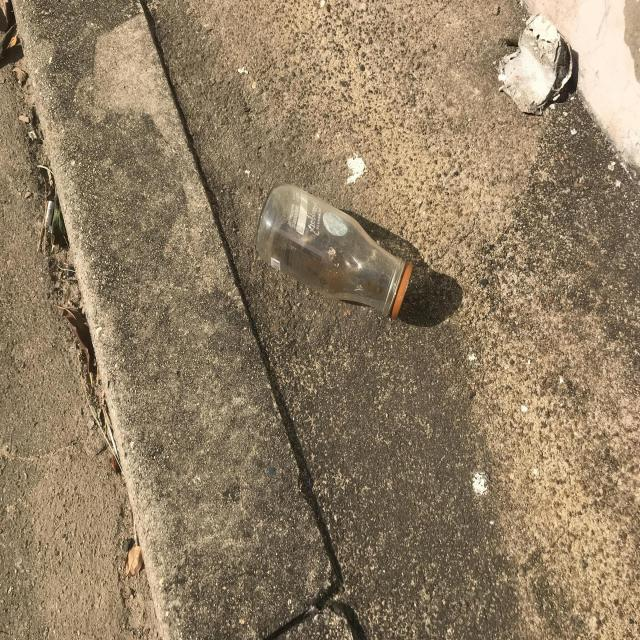glass: (256, 184, 413, 318)
